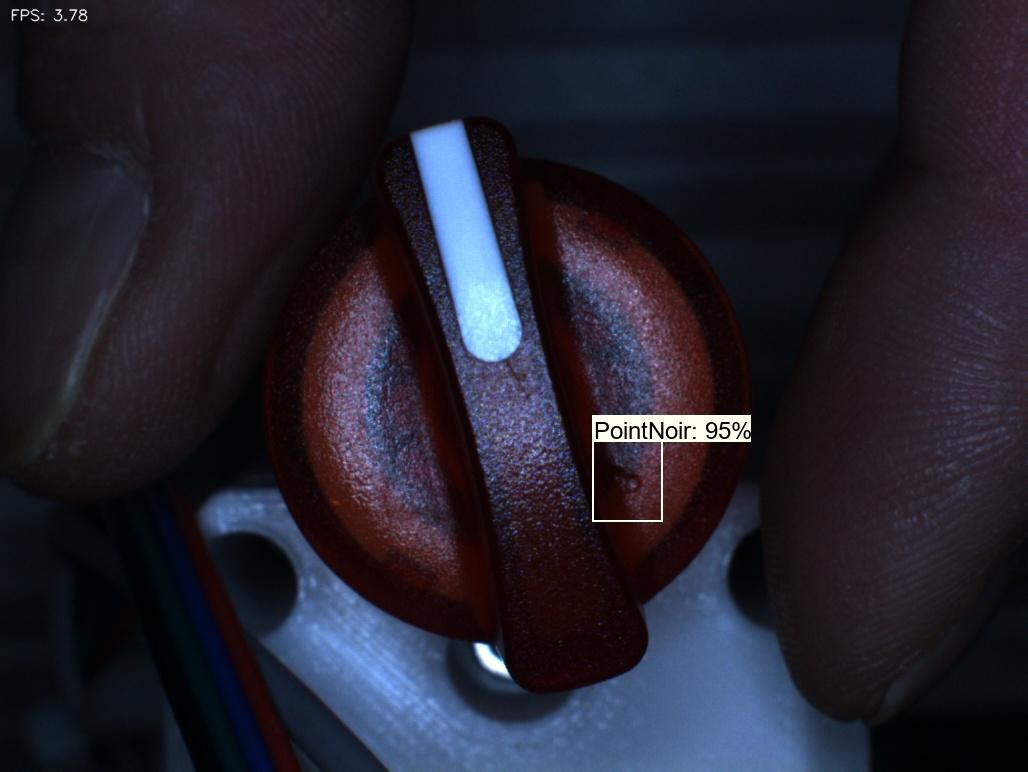Choc: (599, 445, 659, 517)
